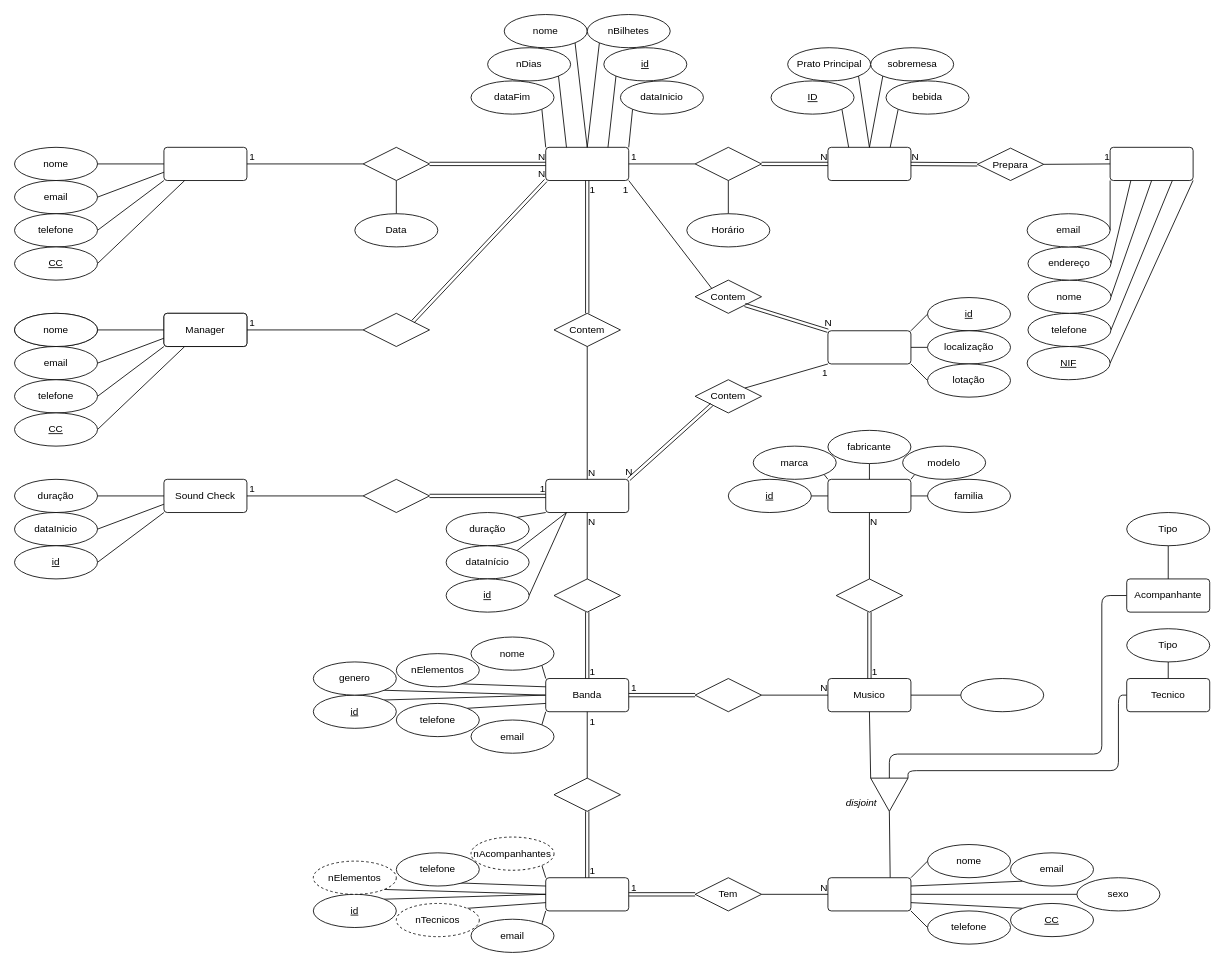
This 1224x967 diagram has some shape labels left out. Each missing label, with the centre of its shape:
Acompanha: the point at 586,794
Comitiva: the point at 587,894
Concerto: the point at 587,495
Constituida: the point at 728,695
Empresa Catering: the point at 1151,163
Evento: the point at 587,163
Fornece: the point at 728,163
Gere: the point at 396,329
Instrumento: the point at 869,495
IS A: the point at 889,794
nomeArtistico: the point at 1002,695
Palco: the point at 869,347
Pessoa: the point at 869,894
Precisa: the point at 396,495
Promotor: the point at 205,163
Promove: the point at 396,163
Realiza: the point at 586,595
Refeição: the point at 869,163
Toca: the point at 869,595
